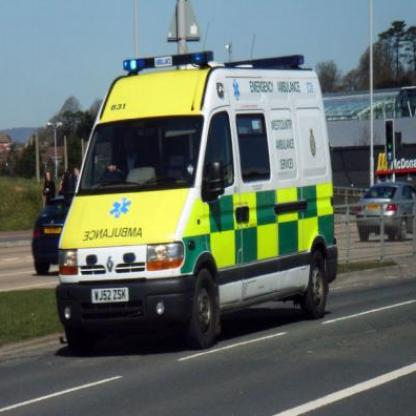truck: (58, 50, 336, 348)
